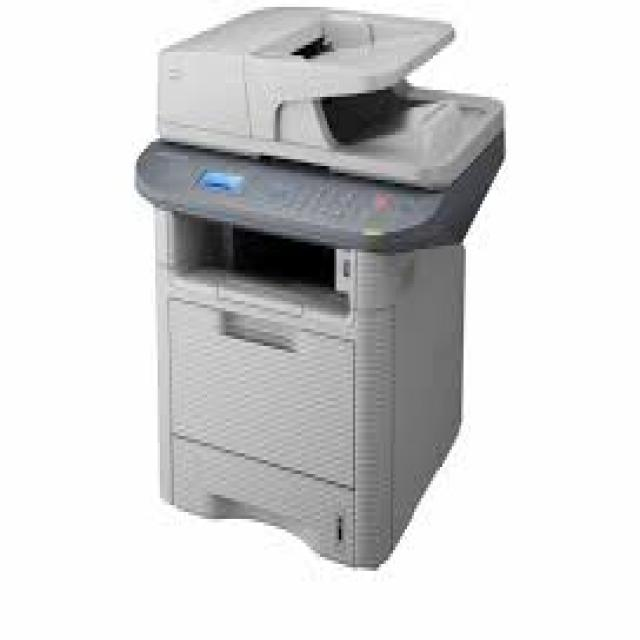printer: (138, 0, 512, 572)
